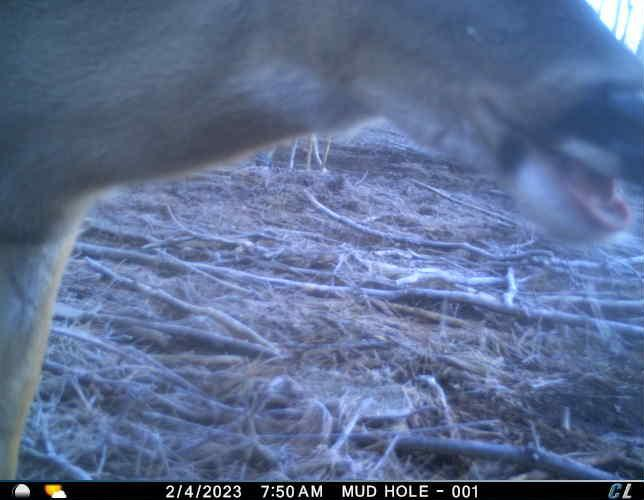Deer: (0, 2, 644, 480)
